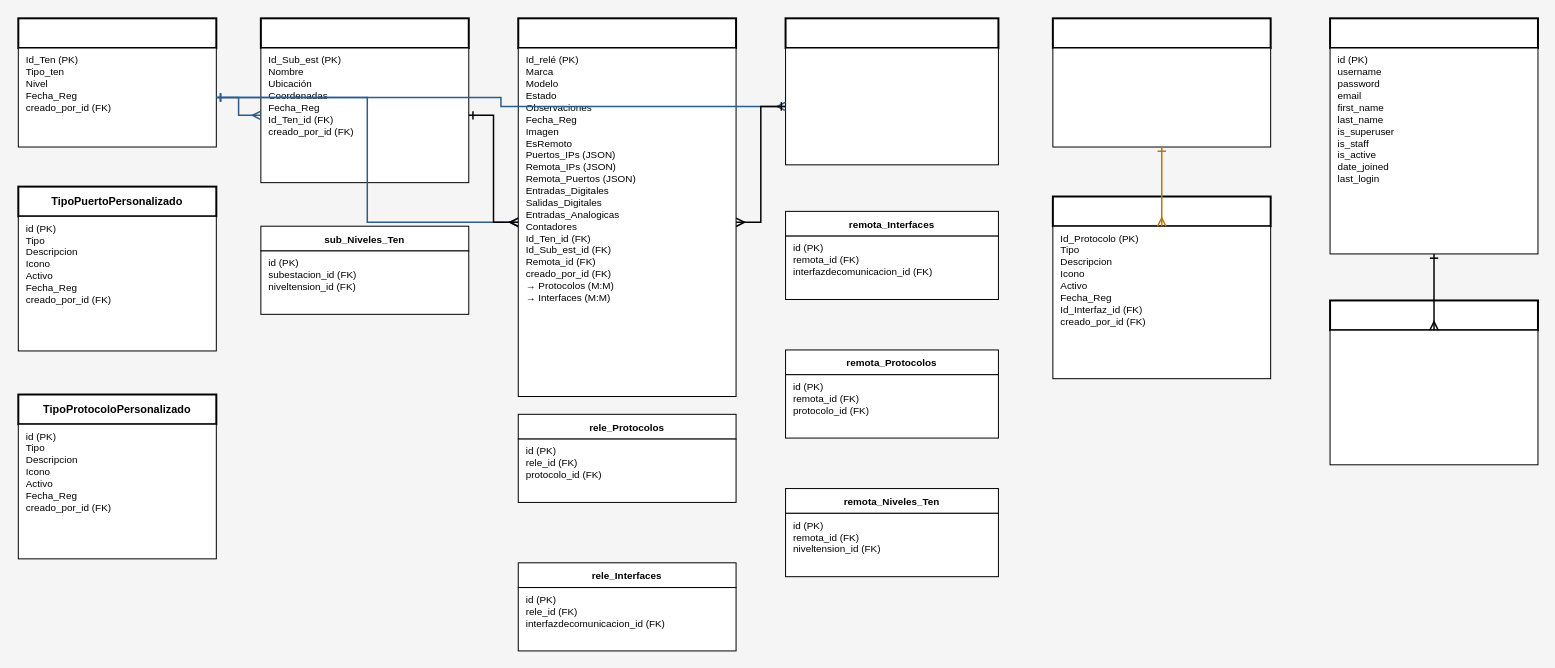
Some shapes in this 1555 by 668 pixel diagram are drawn without their labels. The shapes that lost their labels are listed below. From the top down, each one's centre as x and y in pixels, then its label:
At (x=117, y=33): "NivelTension".
At (x=364, y=33): "Subestacion".
At (x=627, y=33): "Rele".
At (x=891, y=33): "Remota".
At (x=1161, y=33): "InterfazDeComunicacion".
At (x=1433, y=33): "auth_user".
At (x=891, y=106): "Id_Remota (PK) Marca Modelo Fecha_Reg Id_Ten_id (FK) creado_por_id (FK)".
At (x=1161, y=97): "Id_Interfaz (PK) Tipo_Interfaz Tipo_Puerto Fecha_Reg creado_por_id (FK)".
At (x=1161, y=211): "Protocolo".
At (x=1433, y=315): "equipos_evento (Bitacora)".
At (x=1433, y=397): "Id_Evento (PK) Tipo Descripcion Fecha_Hora IP_Address Vista Usuario_id (FK)".
